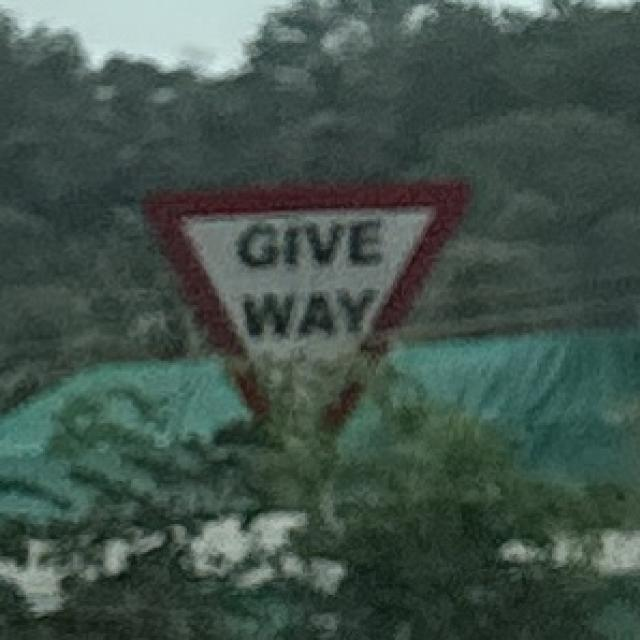GIVE_WAY: (135, 185, 469, 492)
